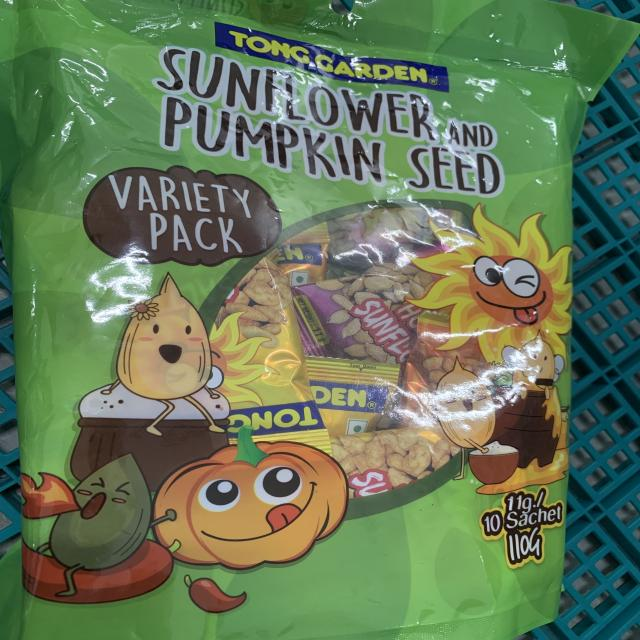object_name: (11, 6, 550, 640)
